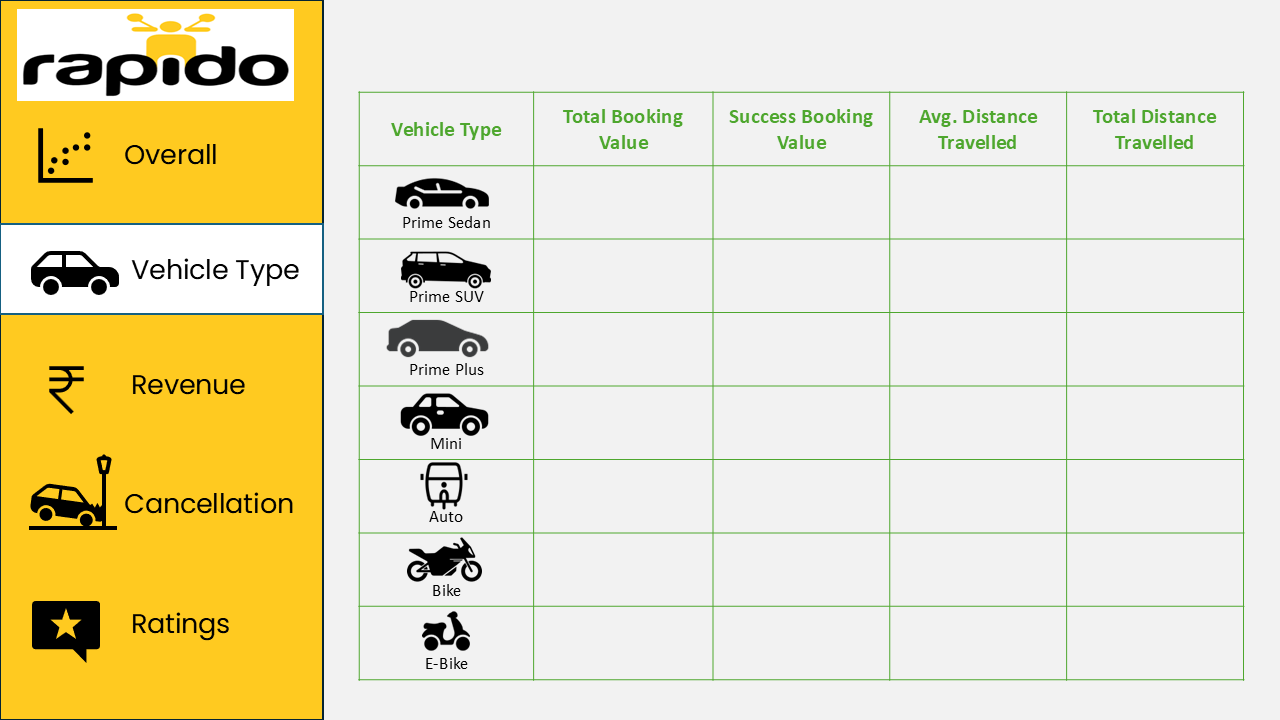

What the dashboard file says about the page in this screenshot:
{"tool":"powerbi","page":{"name":"Vehicle_Type","canvas":[1280,720],"ordinal":1},"visuals":[{"type":"actionButton","box":[0,338.6,325.7,92.9],"z":0},{"type":"actionButton","box":[0,451.4,325.7,92.9],"z":1000},{"type":"actionButton","box":[0,571.4,325.7,92.9],"z":2000},{"type":"actionButton","box":[0,110,325.7,92.9],"z":3000},{"type":"card","fields":{"Values":["Sum(July.Booking_Value)"]},"box":[540,167.5,150,65],"z":4000},{"type":"card","fields":{"Values":["Sum(July.Booking_Value)"]},"box":[540,242.5,150,65],"z":5000},{"type":"card","fields":{"Values":["Sum(July.Booking_Value)"]},"box":[541.2,316.2,150,65],"z":6000},{"type":"card","fields":{"Values":["Sum(July.Booking_Value)"]},"box":[540,386.2,150,65],"z":7000},{"type":"card","fields":{"Values":["Sum(July.Booking_Value)"]},"box":[540,462.5,150,65],"z":8000},{"type":"card","fields":{"Values":["Sum(July.Booking_Value)"]},"box":[540,536.2,150,65],"z":9000},{"type":"card","fields":{"Values":["Sum(July.Booking_Value)"]},"box":[541.2,607.5,150,65],"z":10000},{"type":"card","fields":{"Values":["Sum(July.Booking_Value)"]},"box":[720,167.5,150,65],"z":11000},{"type":"card","fields":{"Values":["Sum(July.Booking_Value)"]},"box":[720,242.5,150,65],"z":12000},{"type":"card","fields":{"Values":["Sum(July.Booking_Value)"]},"box":[720,315,150,65],"z":13000},{"type":"card","fields":{"Values":["Sum(July.Booking_Value)"]},"box":[720,387.5,150,65],"z":14000},{"type":"card","fields":{"Values":["Sum(July.Booking_Value)"]},"box":[720,460,150,65],"z":15000},{"type":"card","fields":{"Values":["Sum(July.Booking_Value)"]},"box":[720,533.8,150,65],"z":16000},{"type":"card","fields":{"Values":["Sum(July.Booking_Value)"]},"box":[720,607.5,150,65],"z":17000},{"type":"card","fields":{"Values":["Avg(July.Ride_Distance)"]},"box":[902.5,167.5,150,65],"z":18000},{"type":"card","fields":{"Values":["Avg(July.Ride_Distance)"]},"box":[902.5,242.5,150,65],"z":19000},{"type":"card","fields":{"Values":["Avg(July.Ride_Distance)"]},"box":[902.5,316.2,150,65],"z":20000},{"type":"card","fields":{"Values":["Avg(July.Ride_Distance)"]},"box":[902.5,388.8,150,65],"z":21000},{"type":"card","fields":{"Values":["Avg(July.Ride_Distance)"]},"box":[902.5,460,150,65],"z":22000},{"type":"card","fields":{"Values":["Avg(July.Ride_Distance)"]},"box":[902.5,538.8,150,65],"z":23000},{"type":"card","fields":{"Values":["Avg(July.Ride_Distance)"]},"box":[902.5,607.5,150,65],"z":24000},{"type":"card","fields":{"Values":["Sum(July.Ride_Distance)"]},"box":[1078.8,167.5,150,65],"z":25000},{"type":"card","fields":{"Values":["Sum(July.Ride_Distance)"]},"box":[1078.8,242.5,150,65],"z":26000},{"type":"card","fields":{"Values":["Sum(July.Ride_Distance)"]},"box":[1078.8,315,150,65],"z":27000},{"type":"card","fields":{"Values":["Sum(July.Ride_Distance)"]},"box":[1078.8,387.5,150,65],"z":28000},{"type":"card","fields":{"Values":["Sum(July.Ride_Distance)"]},"box":[1078.8,462.5,150,65],"z":29000},{"type":"card","fields":{"Values":["Sum(July.Ride_Distance)"]},"box":[1078.8,533.8,150,65],"z":30000},{"type":"card","fields":{"Values":["Sum(July.Ride_Distance)"]},"box":[1078.8,607.5,150,65],"z":31000},{"type":"slicer","title":"Date","fields":{"Values":["July.Date"]},"box":[977.5,12.5,265,72.5],"z":32000}]}

Visuals, with their boxes in screenshot pixels (x1, y1, x2, y2), scaled from the page's 1280x720 canvas onto the 1280x720 screenshot:
actionButton: {"x1": 0, "y1": 339, "x2": 326, "y2": 432}
actionButton: {"x1": 0, "y1": 451, "x2": 326, "y2": 544}
actionButton: {"x1": 0, "y1": 571, "x2": 326, "y2": 664}
actionButton: {"x1": 0, "y1": 110, "x2": 326, "y2": 203}
card - Sum(July.Booking_Value): {"x1": 540, "y1": 168, "x2": 690, "y2": 232}
card - Sum(July.Booking_Value): {"x1": 540, "y1": 242, "x2": 690, "y2": 308}
card - Sum(July.Booking_Value): {"x1": 541, "y1": 316, "x2": 691, "y2": 381}
card - Sum(July.Booking_Value): {"x1": 540, "y1": 386, "x2": 690, "y2": 451}
card - Sum(July.Booking_Value): {"x1": 540, "y1": 462, "x2": 690, "y2": 528}
card - Sum(July.Booking_Value): {"x1": 540, "y1": 536, "x2": 690, "y2": 601}
card - Sum(July.Booking_Value): {"x1": 541, "y1": 608, "x2": 691, "y2": 672}
card - Sum(July.Booking_Value): {"x1": 720, "y1": 168, "x2": 870, "y2": 232}
card - Sum(July.Booking_Value): {"x1": 720, "y1": 242, "x2": 870, "y2": 308}
card - Sum(July.Booking_Value): {"x1": 720, "y1": 315, "x2": 870, "y2": 380}
card - Sum(July.Booking_Value): {"x1": 720, "y1": 388, "x2": 870, "y2": 452}
card - Sum(July.Booking_Value): {"x1": 720, "y1": 460, "x2": 870, "y2": 525}
card - Sum(July.Booking_Value): {"x1": 720, "y1": 534, "x2": 870, "y2": 599}
card - Sum(July.Booking_Value): {"x1": 720, "y1": 608, "x2": 870, "y2": 672}
card - Avg(July.Ride_Distance): {"x1": 902, "y1": 168, "x2": 1052, "y2": 232}
card - Avg(July.Ride_Distance): {"x1": 902, "y1": 242, "x2": 1052, "y2": 308}
card - Avg(July.Ride_Distance): {"x1": 902, "y1": 316, "x2": 1052, "y2": 381}
card - Avg(July.Ride_Distance): {"x1": 902, "y1": 389, "x2": 1052, "y2": 454}
card - Avg(July.Ride_Distance): {"x1": 902, "y1": 460, "x2": 1052, "y2": 525}
card - Avg(July.Ride_Distance): {"x1": 902, "y1": 539, "x2": 1052, "y2": 604}
card - Avg(July.Ride_Distance): {"x1": 902, "y1": 608, "x2": 1052, "y2": 672}
card - Sum(July.Ride_Distance): {"x1": 1079, "y1": 168, "x2": 1229, "y2": 232}
card - Sum(July.Ride_Distance): {"x1": 1079, "y1": 242, "x2": 1229, "y2": 308}
card - Sum(July.Ride_Distance): {"x1": 1079, "y1": 315, "x2": 1229, "y2": 380}
card - Sum(July.Ride_Distance): {"x1": 1079, "y1": 388, "x2": 1229, "y2": 452}
card - Sum(July.Ride_Distance): {"x1": 1079, "y1": 462, "x2": 1229, "y2": 528}
card - Sum(July.Ride_Distance): {"x1": 1079, "y1": 534, "x2": 1229, "y2": 599}
card - Sum(July.Ride_Distance): {"x1": 1079, "y1": 608, "x2": 1229, "y2": 672}
"Date" slicer: {"x1": 978, "y1": 12, "x2": 1242, "y2": 85}
